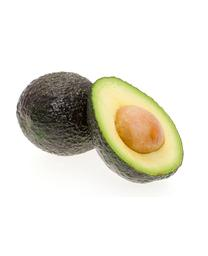avocado: (86, 76, 184, 185), (16, 71, 116, 157)
